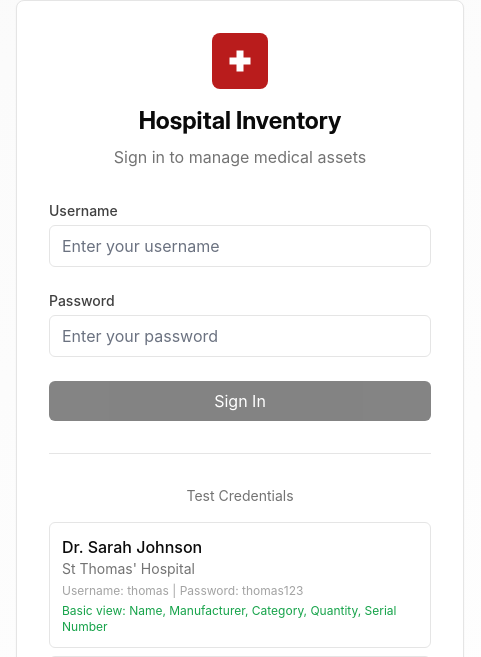
Test: LoginView Component › Login Process › should show loading state during login
Type "thomas" into the field with test id "username" at (240, 246), box top-left (49, 225), bottom-right (431, 267)
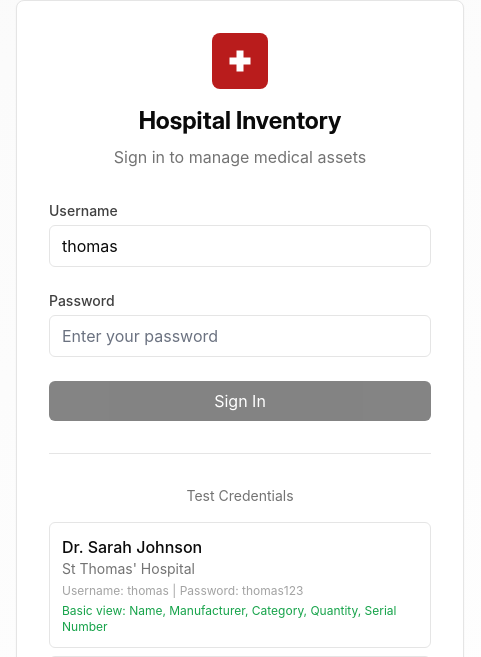
Type "thomas123" into the password field with test id "password" at (240, 336), box top-left (49, 315), bottom-right (431, 357)
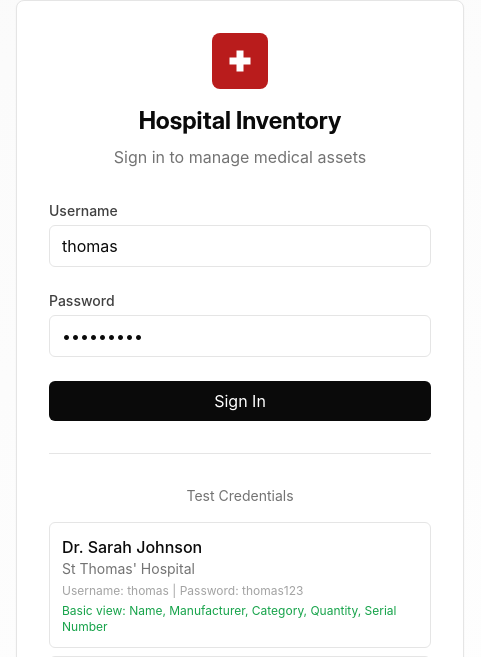
Submit the form, box top-left (49, 201), bottom-right (431, 421)
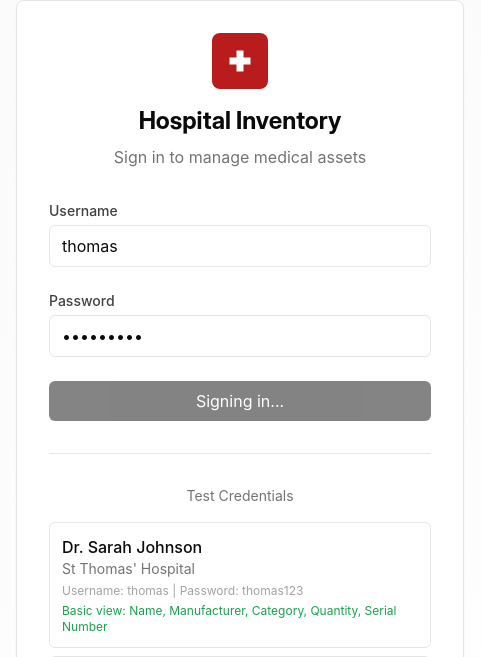
expect the button with test id "login-btn" reads "Signing in...": met, box top-left (49, 381), bottom-right (431, 421)
expect the button with test id "login-btn" is disabled: met, box top-left (49, 381), bottom-right (431, 421)
